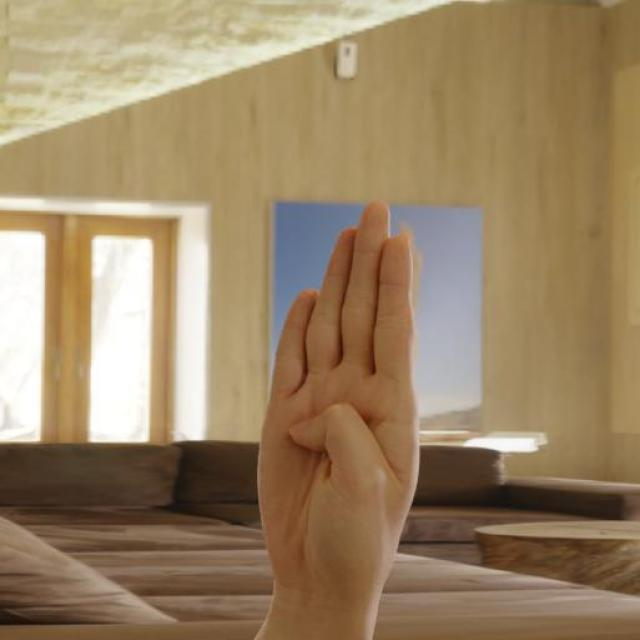B: (246, 176, 423, 609)
